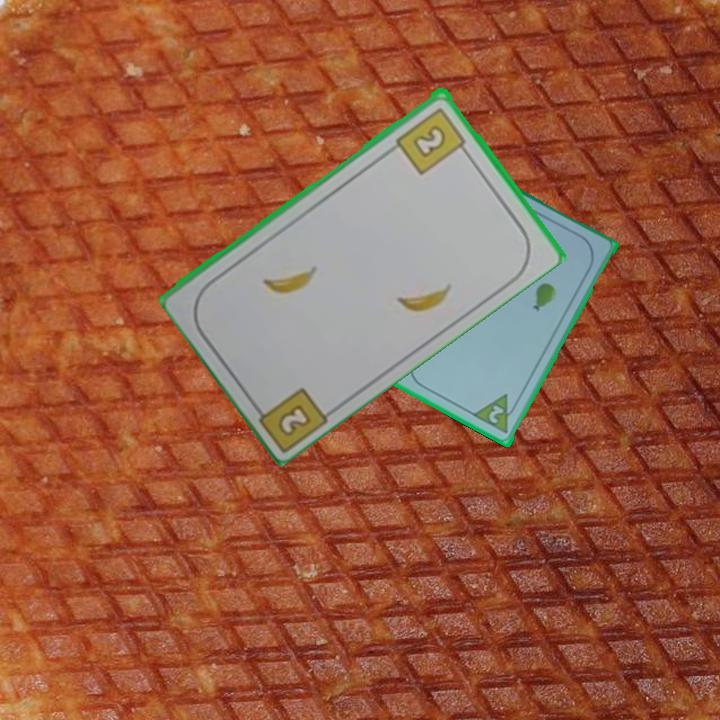2b: (392, 103, 472, 177), (274, 400, 314, 439)
2p: (485, 402, 507, 427)
